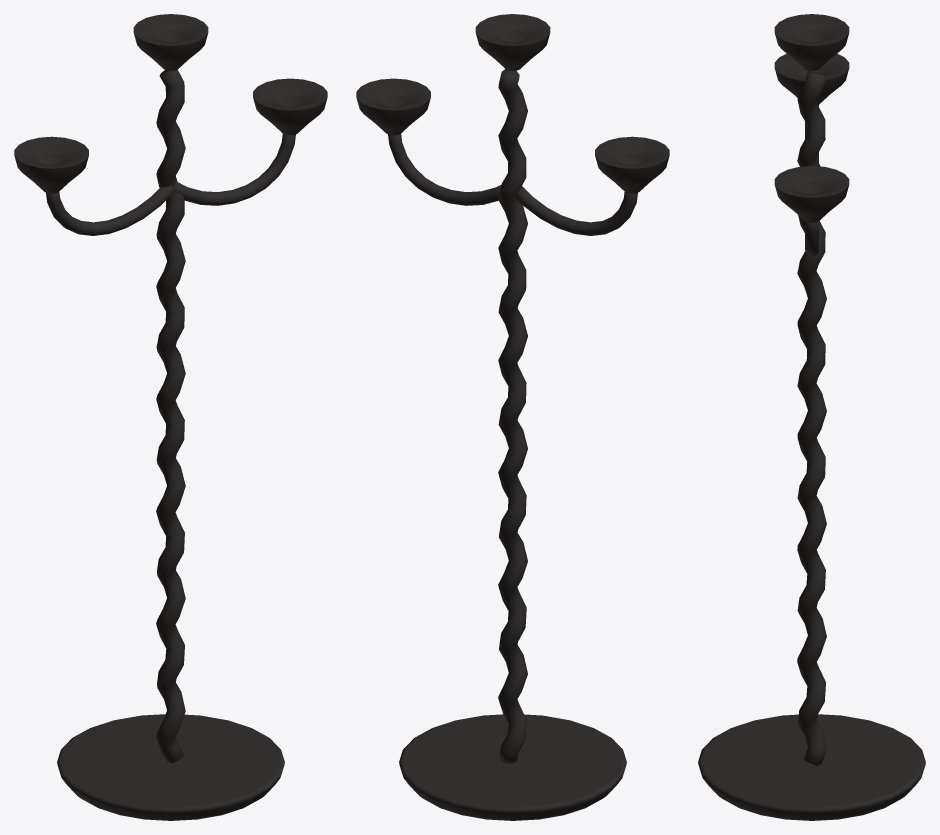
Rendered from candle_stand.glb.
The picture shows the model from 3 angles, left to right: view 1: azimuth 30°, elevation 25°; view 2: azimuth 150°, elevation 25°; view 3: azimuth 270°, elevation 25°; orthographic projection.
Visible parts, largest first — view 1: model; view 2: model; view 3: model.
Part boxes in pixels (x1,y1,x2,y2): model: (14,14,327,820); model: (356,14,669,820); model: (698,14,925,820).
Size of the model in its own units: 0.51 by 1.2 by 0.3308.
Materials: 1 (1 with a texture image).
